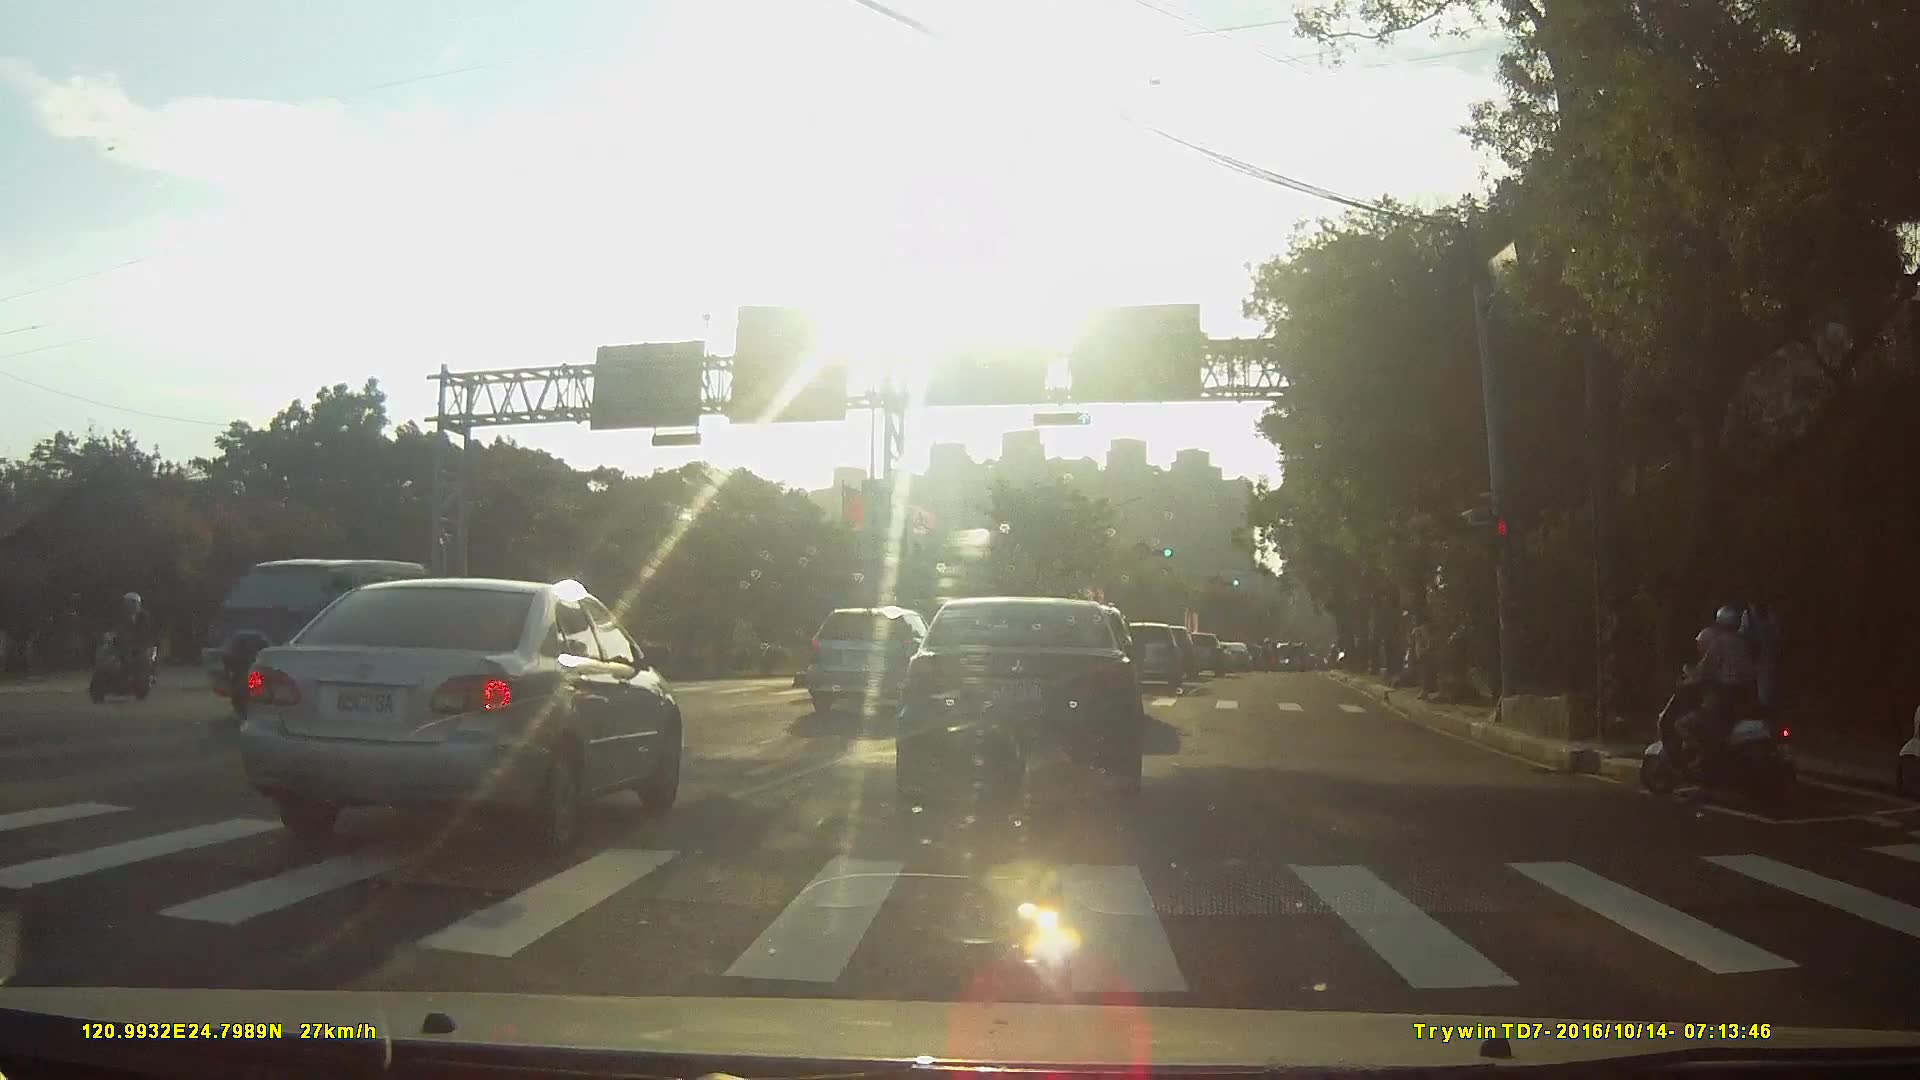pedestrian: (1732, 585, 1792, 747)
rider: (1639, 606, 1802, 813), (85, 590, 153, 705)
vehicle: (226, 576, 685, 854), (893, 597, 1146, 805), (189, 550, 450, 724), (803, 608, 947, 718), (1109, 622, 1183, 689), (1174, 632, 1224, 675), (1214, 644, 1251, 672)
